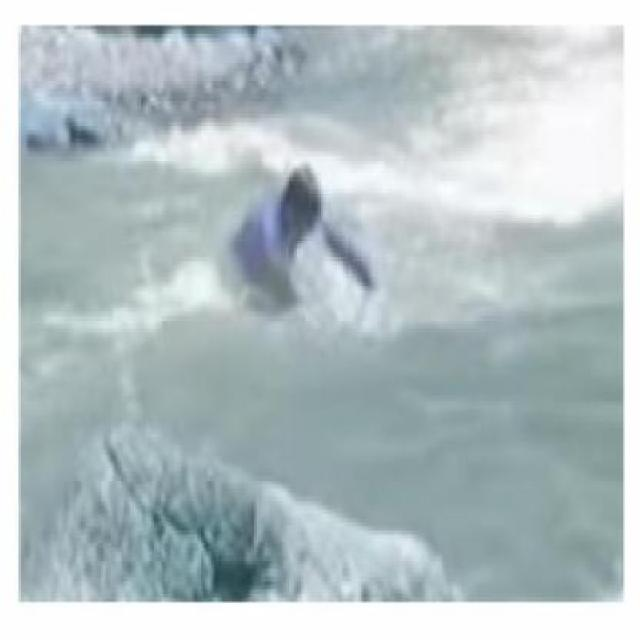drowning: (19, 30, 624, 599)
